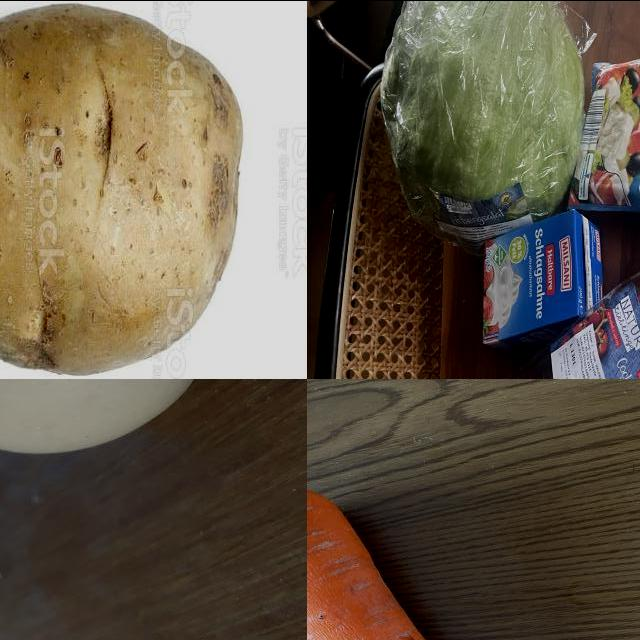cabbage: (365, 1, 616, 239)
carrot: (308, 482, 552, 640)
egg: (1, 379, 217, 454)
potato: (1, 9, 238, 376)
